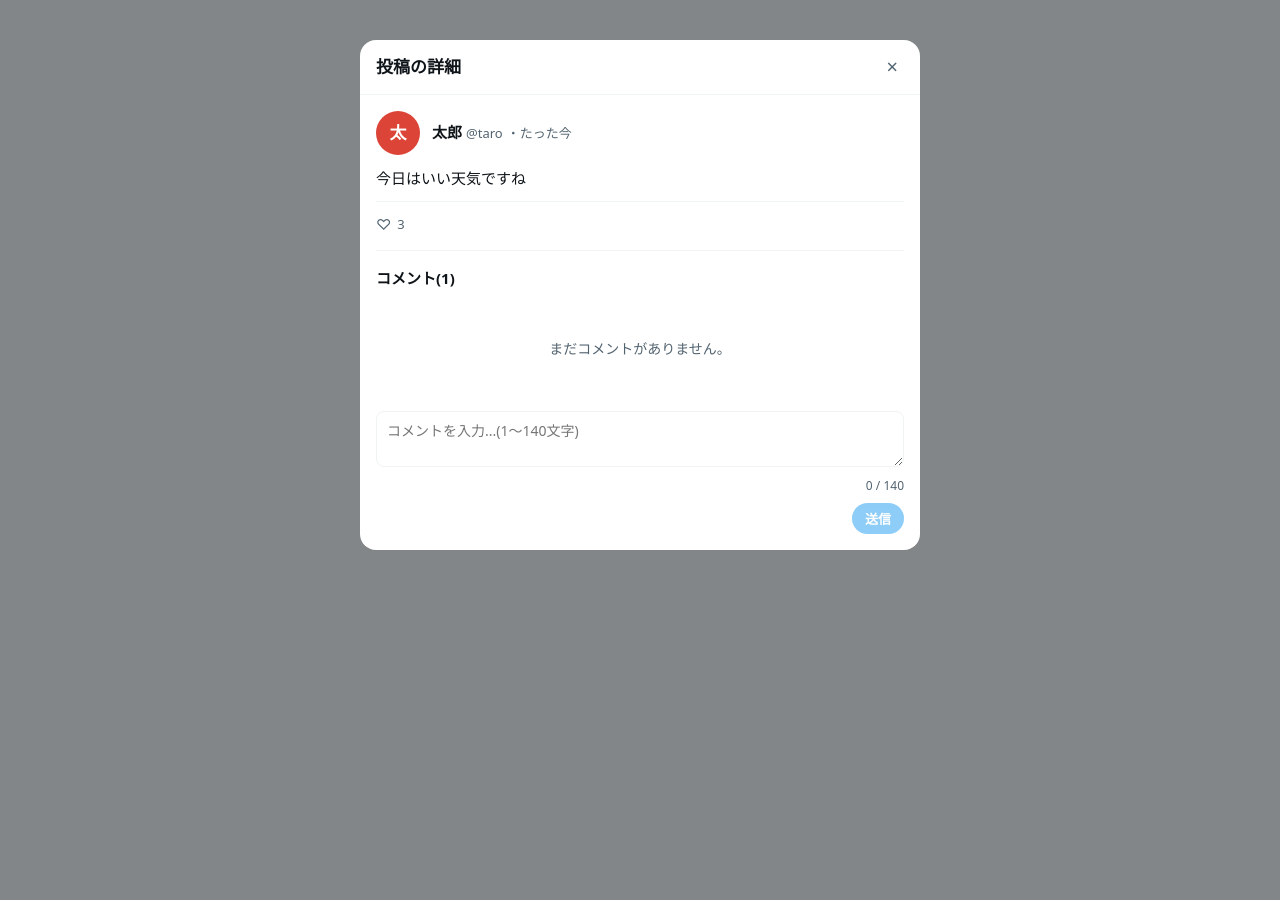
Scenario: PostDetailModal › submits a new top-level comment and updates the comment count
This screenshot has width=1280, height=900.
Expected: the text "まだコメントがありません。" is shown, [549,338,731,358]
Type "新しいコメント" into the text box with placeholder "コメントを入力...(1〜140文字)" at (640, 438), box [376,410,904,466]
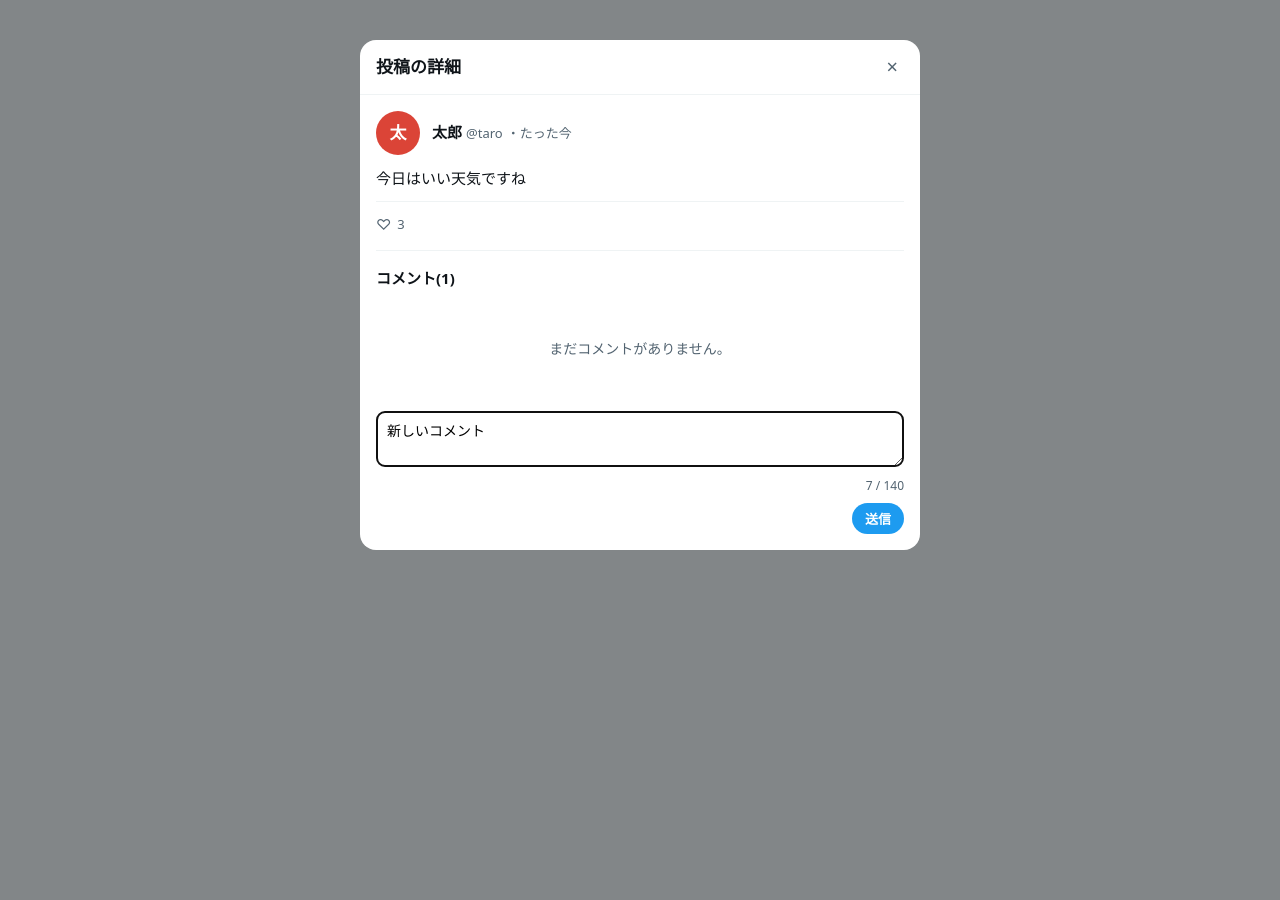
Click the button "送信" at (878, 518), box [852,502,904,534]
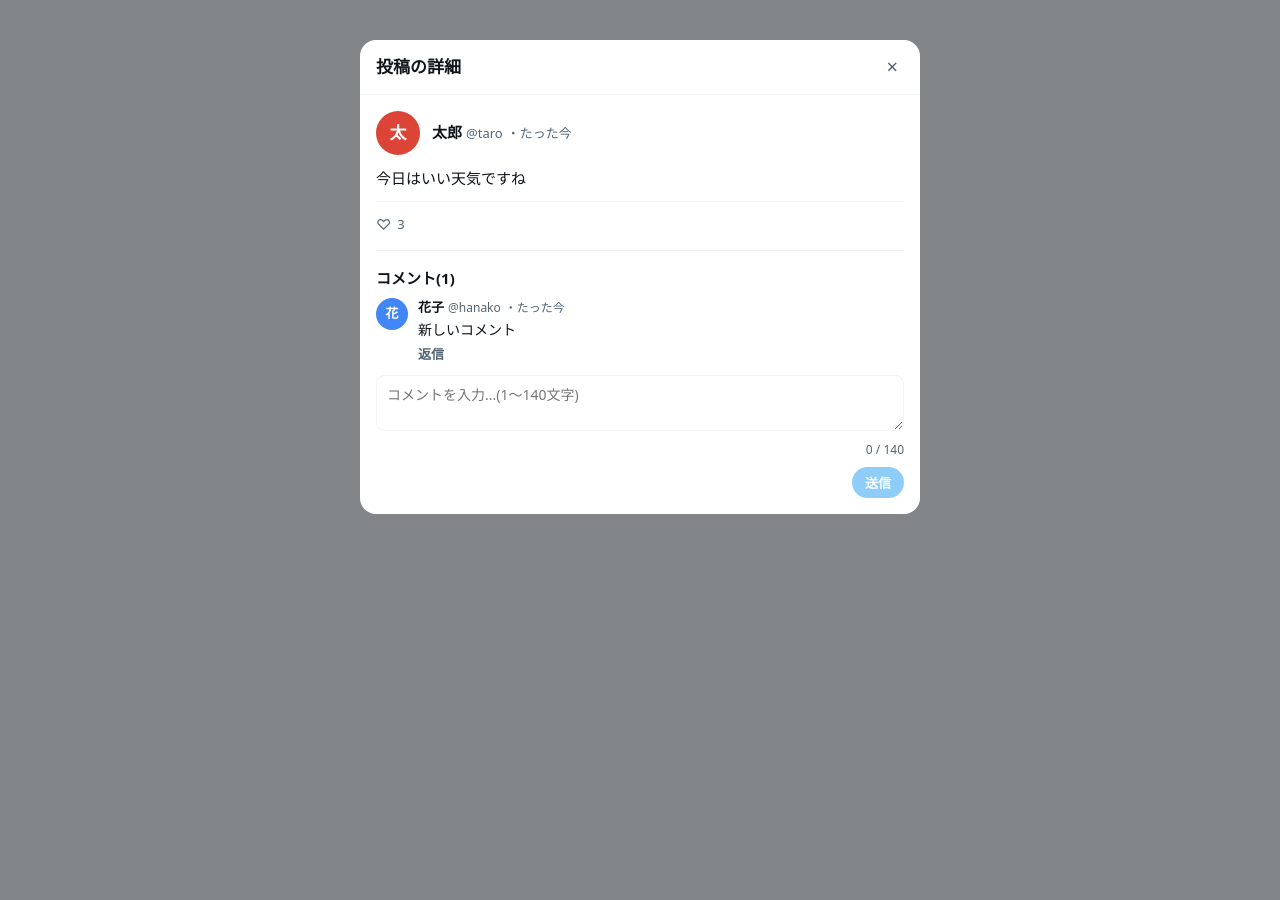
Expected: the text "新しいコメント" is shown, [418,320,516,339]
